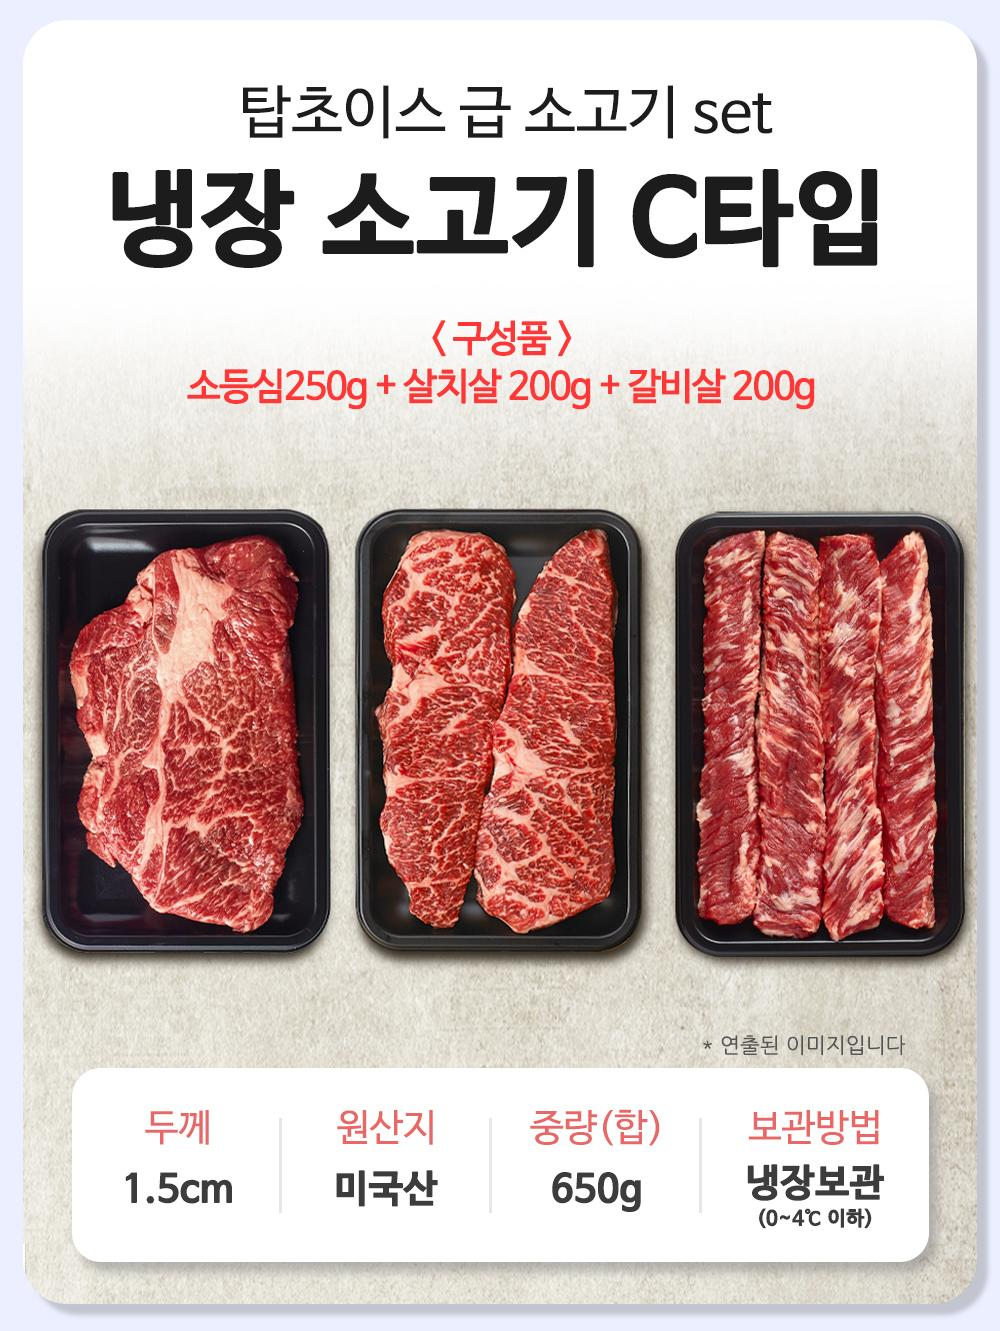beef: (590, 911, 978, 1331), (97, 928, 481, 1331), (815, 907, 1000, 1331)
